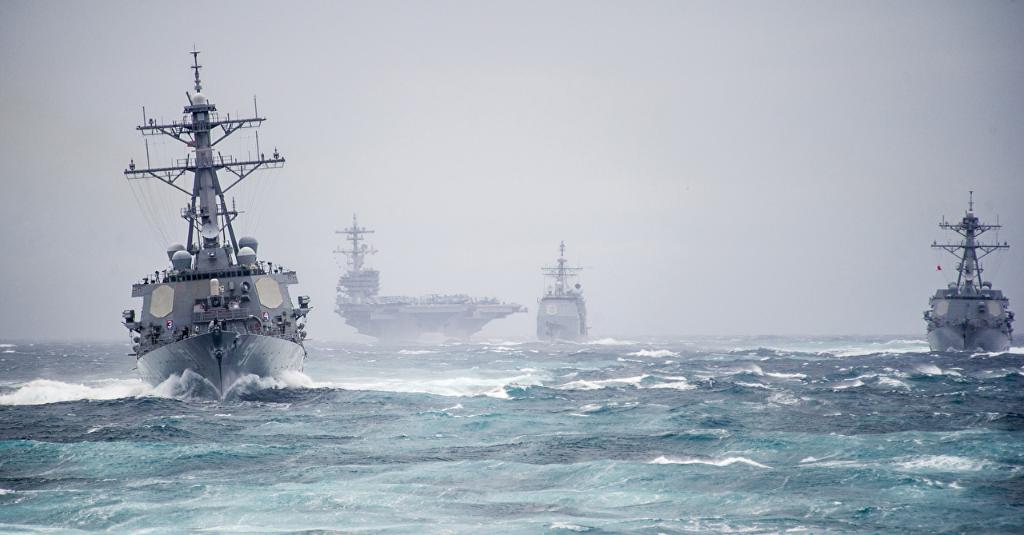Warship: (120, 42, 318, 396), (328, 208, 526, 353), (920, 200, 1018, 362), (532, 235, 594, 345)
